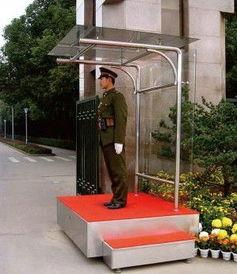up: (92, 64, 138, 214)
